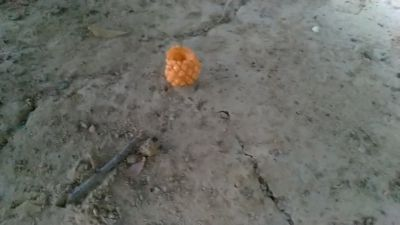eggs: (163, 42, 205, 91)
